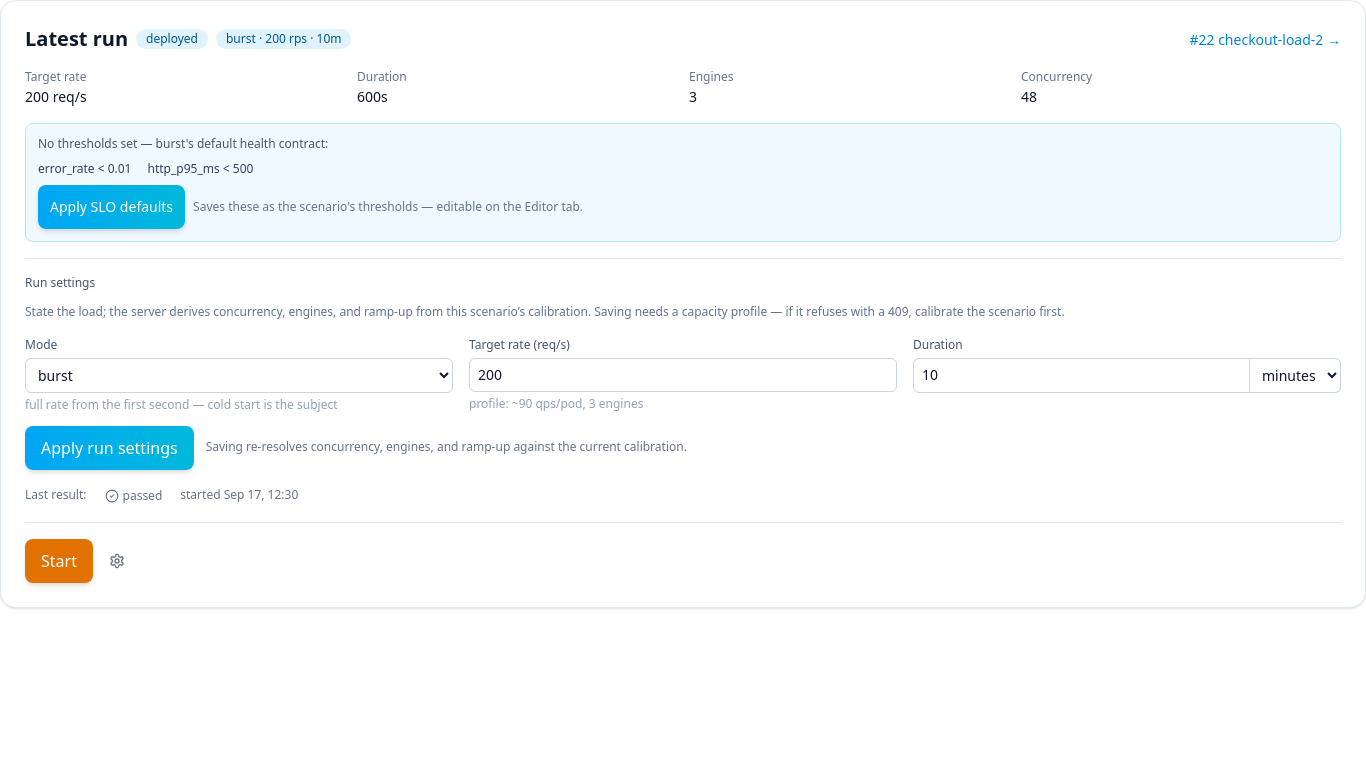
Test case: ScenarioRunPanel — countdown preference affordances (phase 96) › keeps the settings gear beside the countdown while it ticks
The image size is (1366, 768).
Click the button "Start".
click(59, 561)  # box [25,539,93,583]
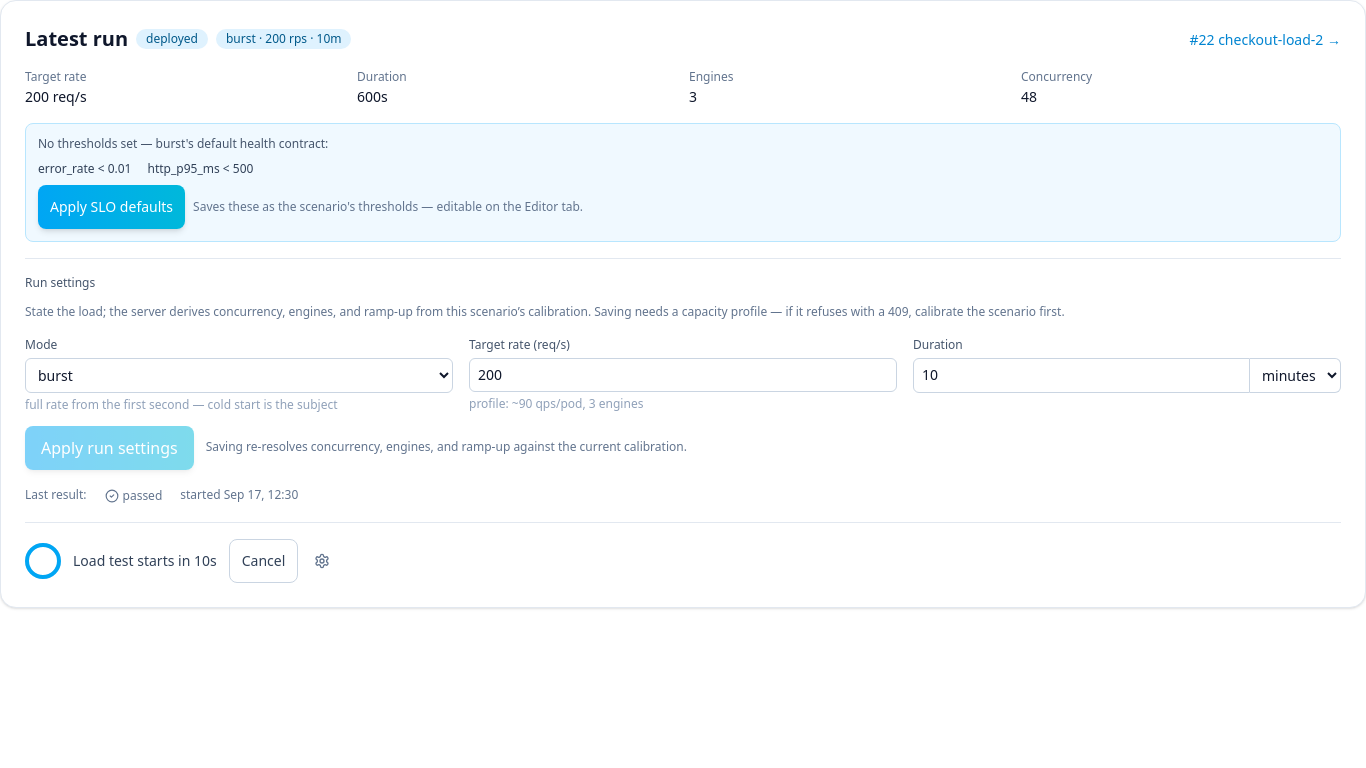
Expected: the element with test id "start-countdown" is shown, [25,539,298,583]
Expected: the text with test id "start-countdown-remaining" reads "Load test starts in 10s", [73,551,217,570]
